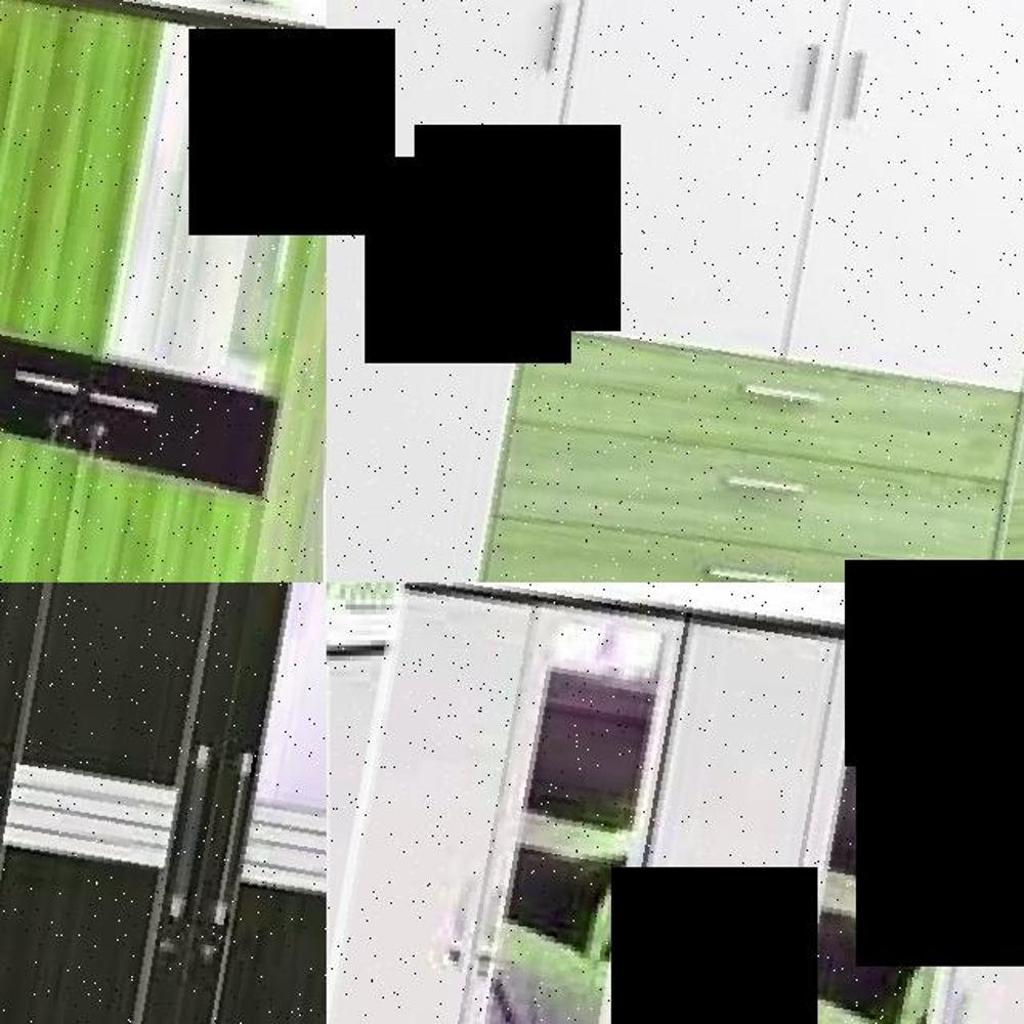cabinet: (326, 0, 1024, 582), (326, 582, 1024, 1024), (0, 0, 326, 582), (0, 582, 326, 1024)
